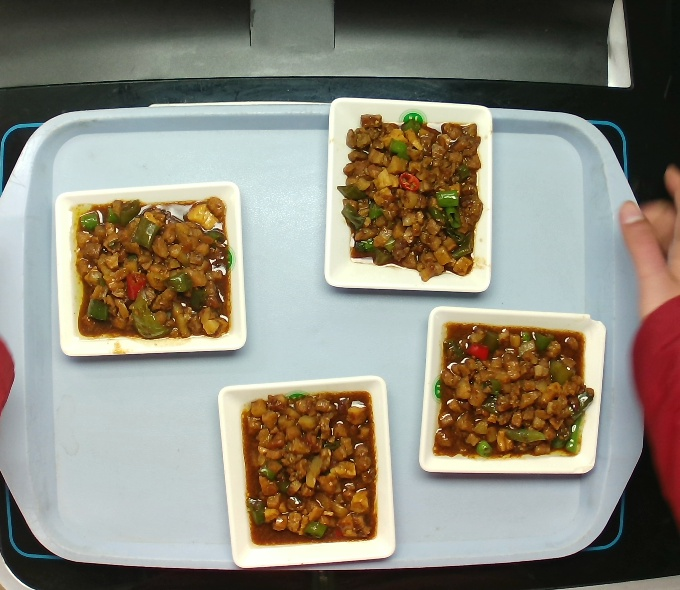wcq-XiaoJiangRou: (336, 112, 484, 283), (75, 196, 233, 341), (432, 322, 595, 459), (241, 390, 378, 546)
